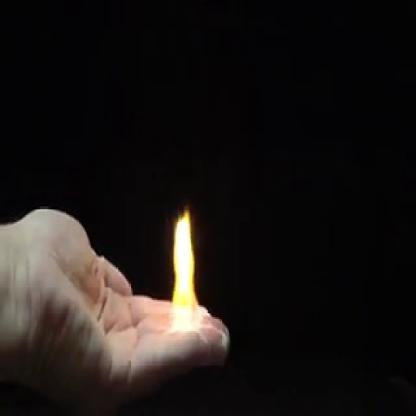fire: (164, 206, 204, 335)
